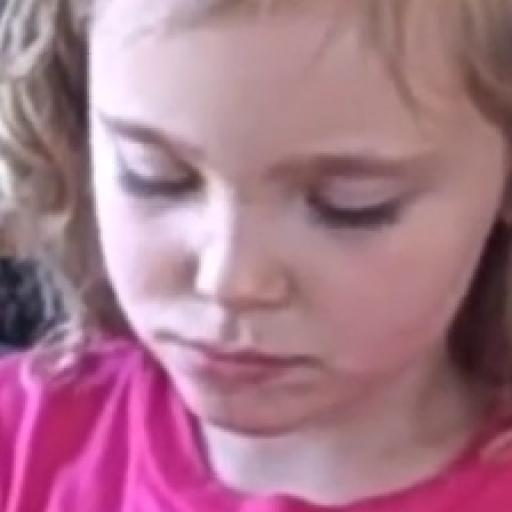Autism: (89, 14, 512, 491)
